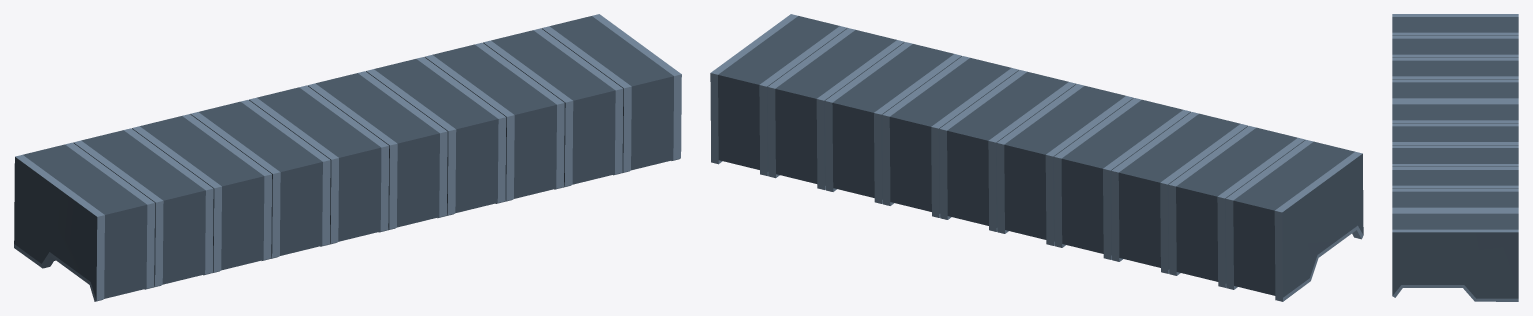
The model's file is mdlCabinWallHalf.fbx.
3 views of the same model, side by side, from view 1: azimuth 30°, elevation 25°; view 2: azimuth 150°, elevation 25°; view 3: azimuth 270°, elevation 25° (orthographic). The views are drawn at different scales.
Parts seen in each view (by area): view 1: CabinWall_001; view 2: CabinWall_001; view 3: CabinWall_001.
Boxes of the visible parts, <box> form: CabinWall_001: <box>14,14,681,301</box>; CabinWall_001: <box>710,14,1363,301</box>; CabinWall_001: <box>1392,14,1518,301</box>.
Bounding box in the file's own units: 55.26 × 8.24 × 13.47.
Materials: 1 (1 with a texture image).
